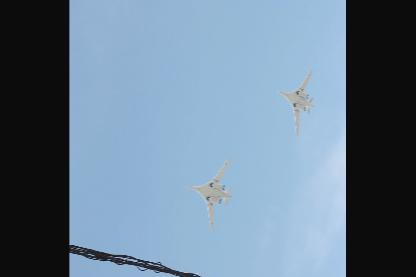Su34: (186, 155, 234, 228), (277, 67, 316, 134)
